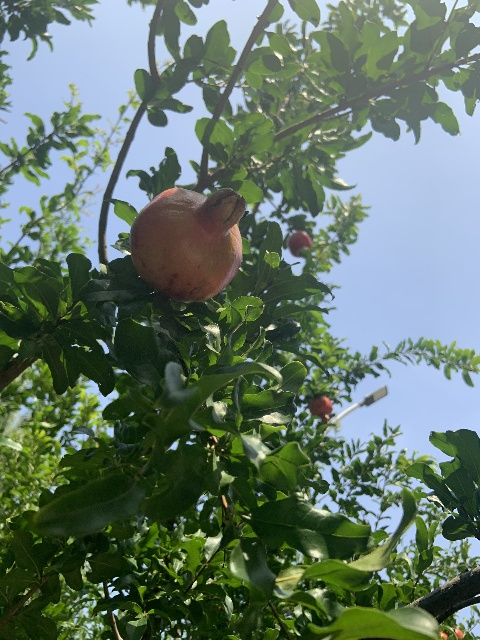ripe: (129, 187, 247, 302), (288, 231, 312, 256), (309, 396, 332, 422)
